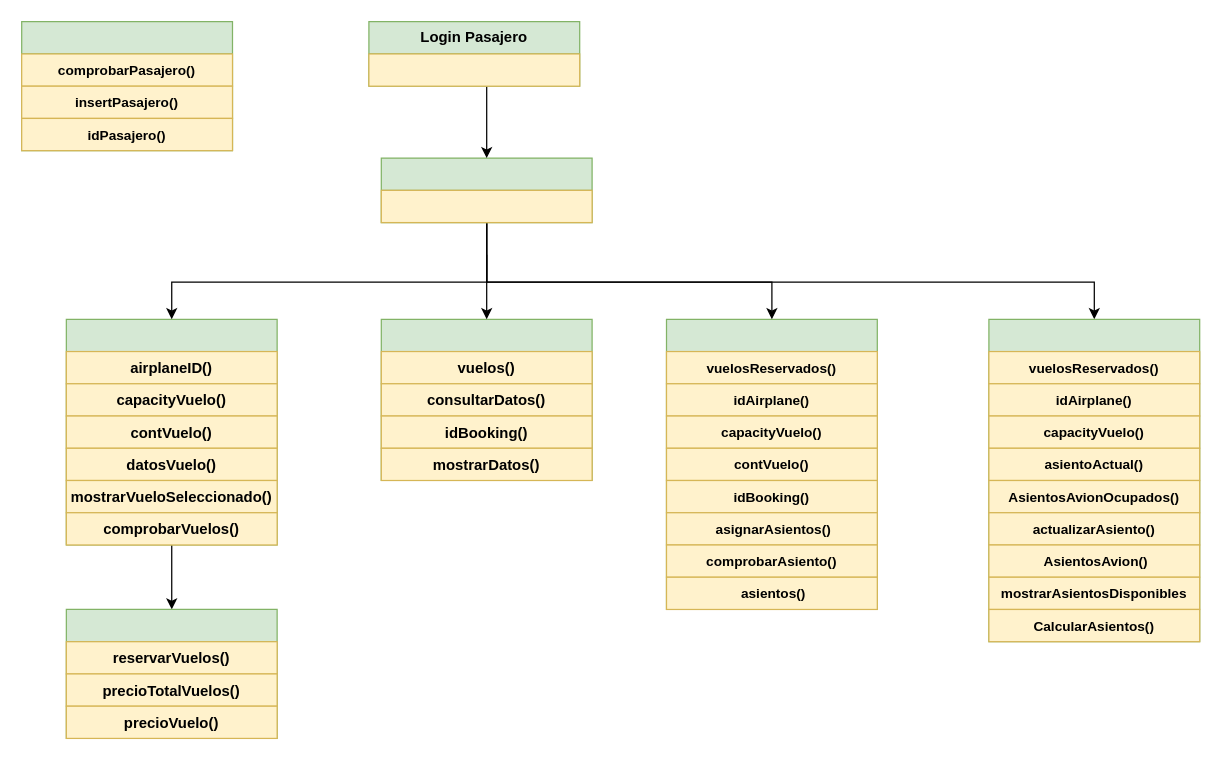
This 1221x760 diagram has some shape labels left out. The box of each missing label's shape, as (x1, y1, x2, y2) in pixels:
Check In: (665, 318, 877, 609)
Consultar Reservas: (380, 318, 592, 480)
login(): (368, 53, 580, 86)
Menu Pasajero: (380, 157, 592, 223)
Modificar Asiento: (988, 318, 1200, 642)
Pasarela: (65, 608, 277, 738)
Registro Pasajero: (20, 20, 232, 151)
Reservar Vuelos: (65, 318, 277, 545)
